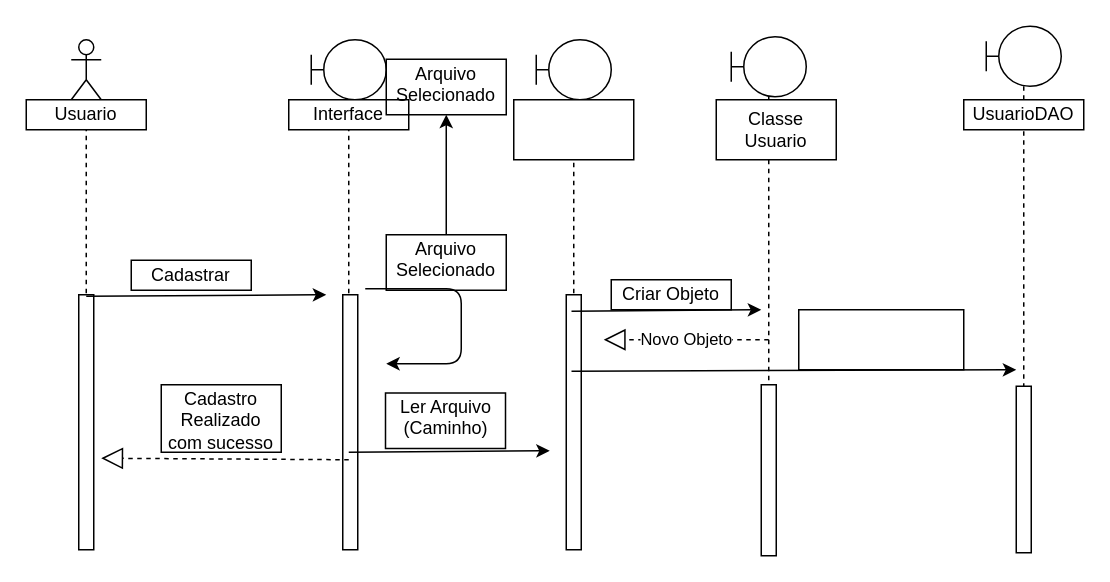
This 1110x582 diagram has some shape labels left out. The shapes that lost their labels are listed below. From the top down, each one's centre as x and y in pixels, then its label:
At (573,129): "Classe Ler Arquivo".
At (880,339): "Enviar List<Usuarios>".
